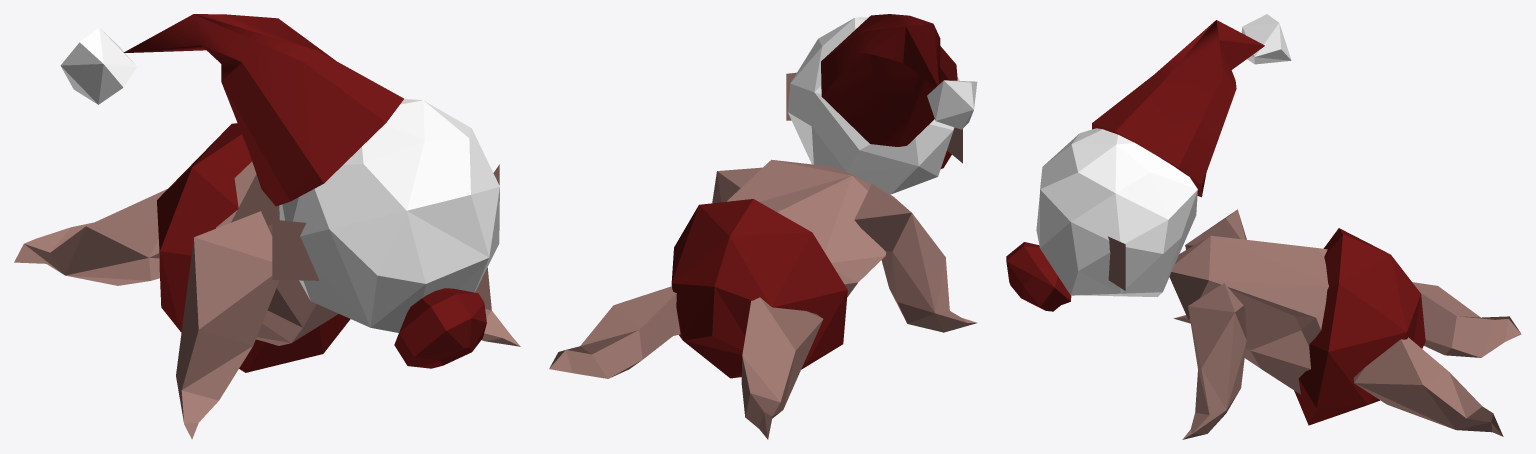
File: ClownB.FBX
The picture shows the model from 3 angles, left to right: view 1: azimuth 30°, elevation 25°; view 2: azimuth 150°, elevation 25°; view 3: azimuth 270°, elevation 25°; orthographic projection. The views are drawn at different scales.
Visible parts, largest first — view 1: ClownB; view 2: ClownB; view 3: ClownB.
Part boxes in pixels (x1,y1,x2,y2): ClownB: [14, 14, 520, 439]; ClownB: [549, 14, 977, 439]; ClownB: [1006, 14, 1521, 439].
Size of the model in its own units: 32.01 by 45.59 by 32.61.
